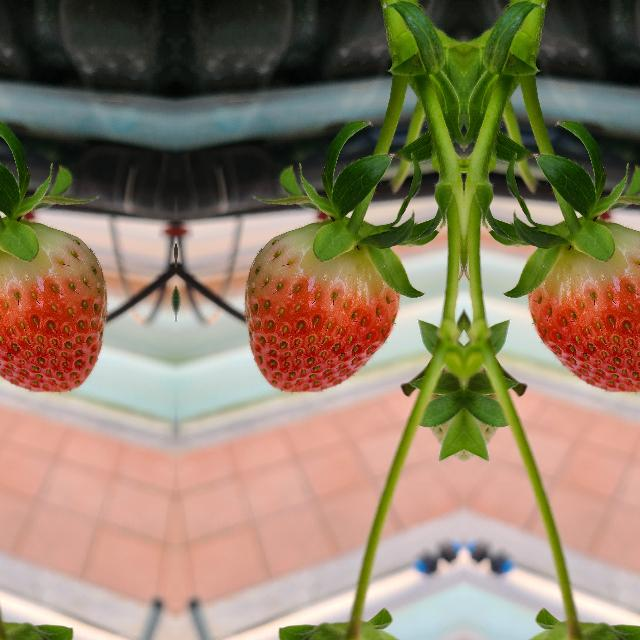Health_100: (244, 220, 398, 392), (527, 220, 640, 392), (0, 220, 106, 392)
